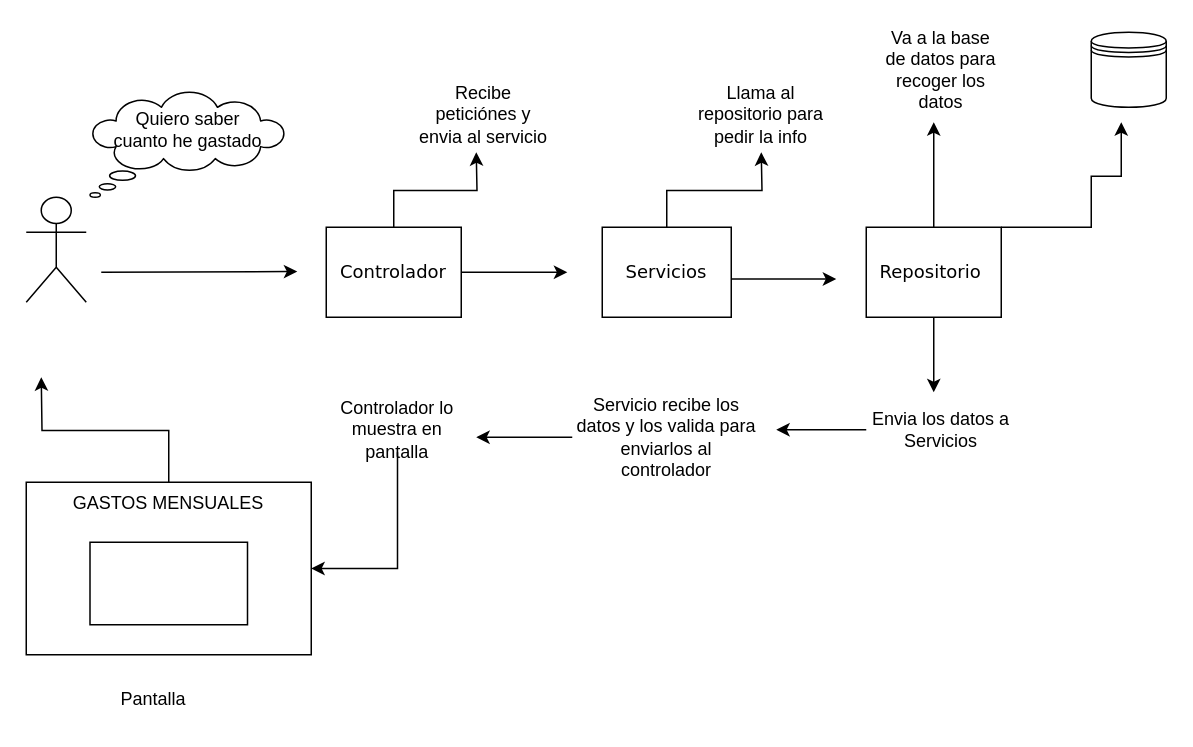
Some shapes in this 1193 by 747 pixel diagram are drawn without their labels. The centre of each missing label's shape, as x and y in pixels:
Cliente: the point at 55,249
DB: the point at 1128,69
